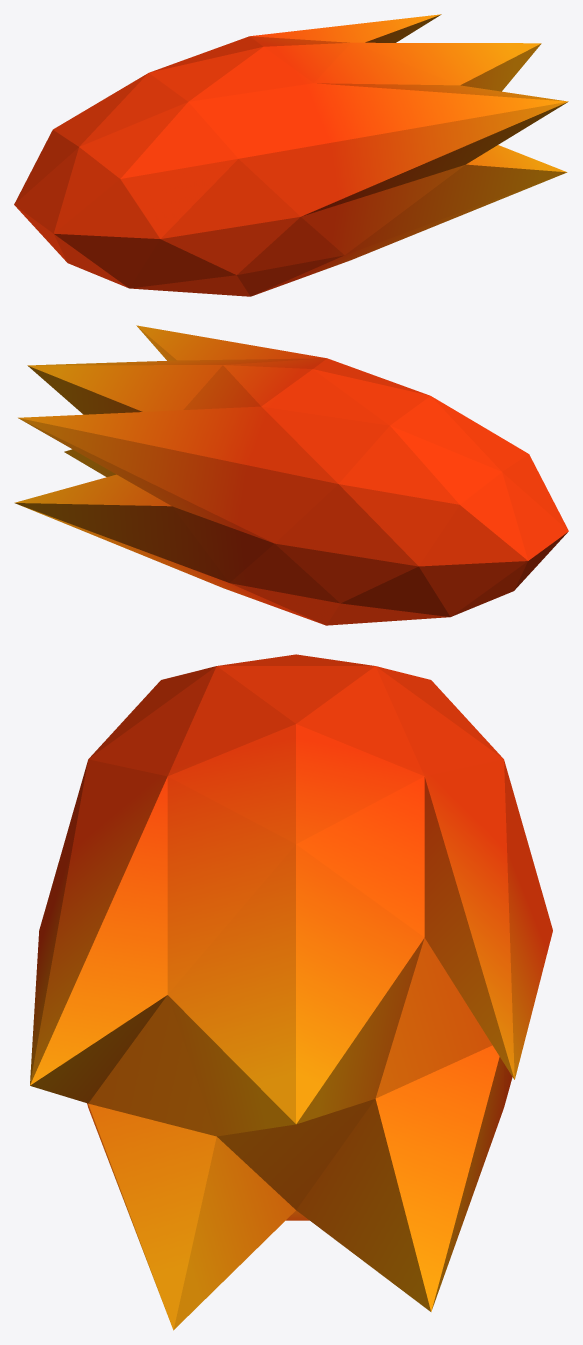
Rendered from Fireball.glb.
The picture shows the model from 3 angles, top to bottom: view 1: azimuth 30°, elevation 25°; view 2: azimuth 150°, elevation 25°; view 3: azimuth 270°, elevation 25°; orthographic projection. The views are drawn at different scales.
Parts seen in each view (by area): view 1: Icosphere; view 2: Icosphere; view 3: Icosphere.
Boxes of the visible parts, <box> form: Icosphere: <box>14,14,568,296</box>; Icosphere: <box>14,325,568,625</box>; Icosphere: <box>30,654,552,1330</box>.
Size of the model in its own units: 4.57 by 2 by 2.04.
1 material, 1 textured.
